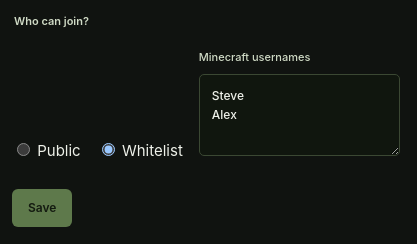
Test case: player access editor › explains saving to a running server
The image size is (417, 244).
Expected: the text box labelled "Minecraft usernames" is shown, [199,74,400,156]
Click the radio button labelled "Public". click: (24, 149)
box: [17,143,30,156]
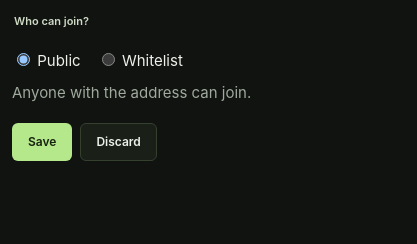
Click the button "Save". click: (42, 142)
box: [12,123,72,161]
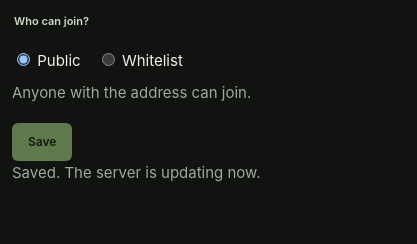
Expected: the text "Saved. The server is updating now." is shown, [12,163,261,182]
